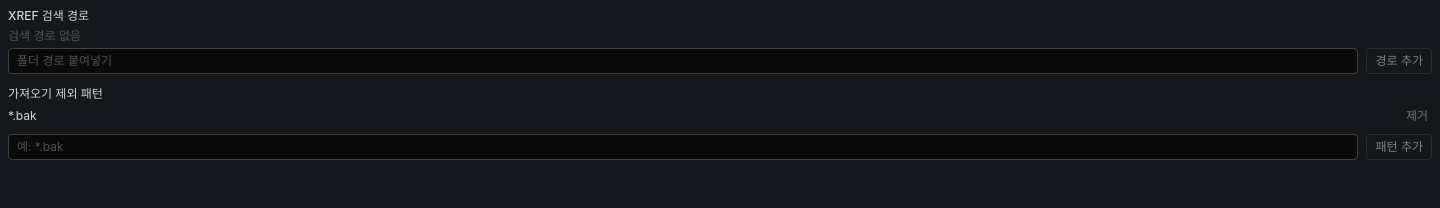
Test: ImportSettingsPanel › adding a search path saves the merged list
Expected: the text "검색 경로 없음" is shown, [8, 28, 81, 43]
Type "/new" into the field with placeholder "폴더 경로 붙여넣기".
click(683, 61); type("/new")  # box [8, 48, 1358, 74]
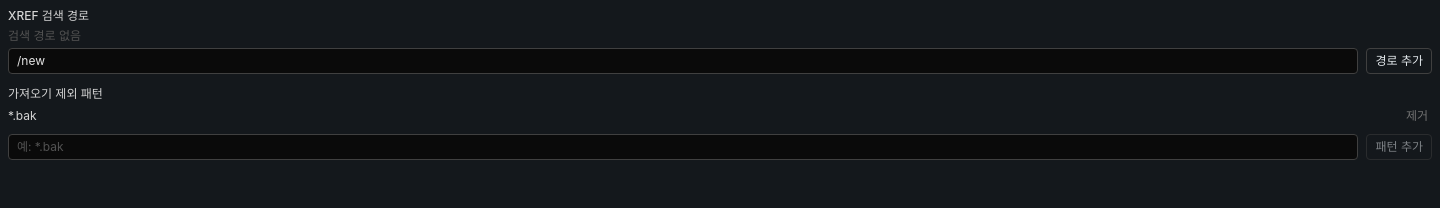
Click the button "경로 추가".
click(1399, 61)  # box [1366, 48, 1432, 74]
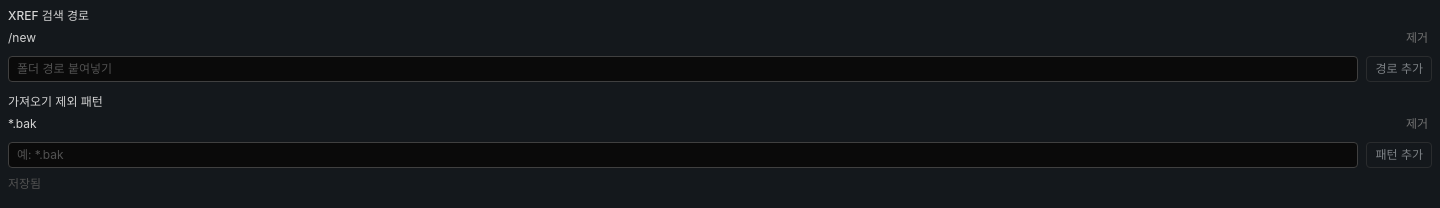
Result: the text "저장됨" is shown at [8, 176, 41, 191]
